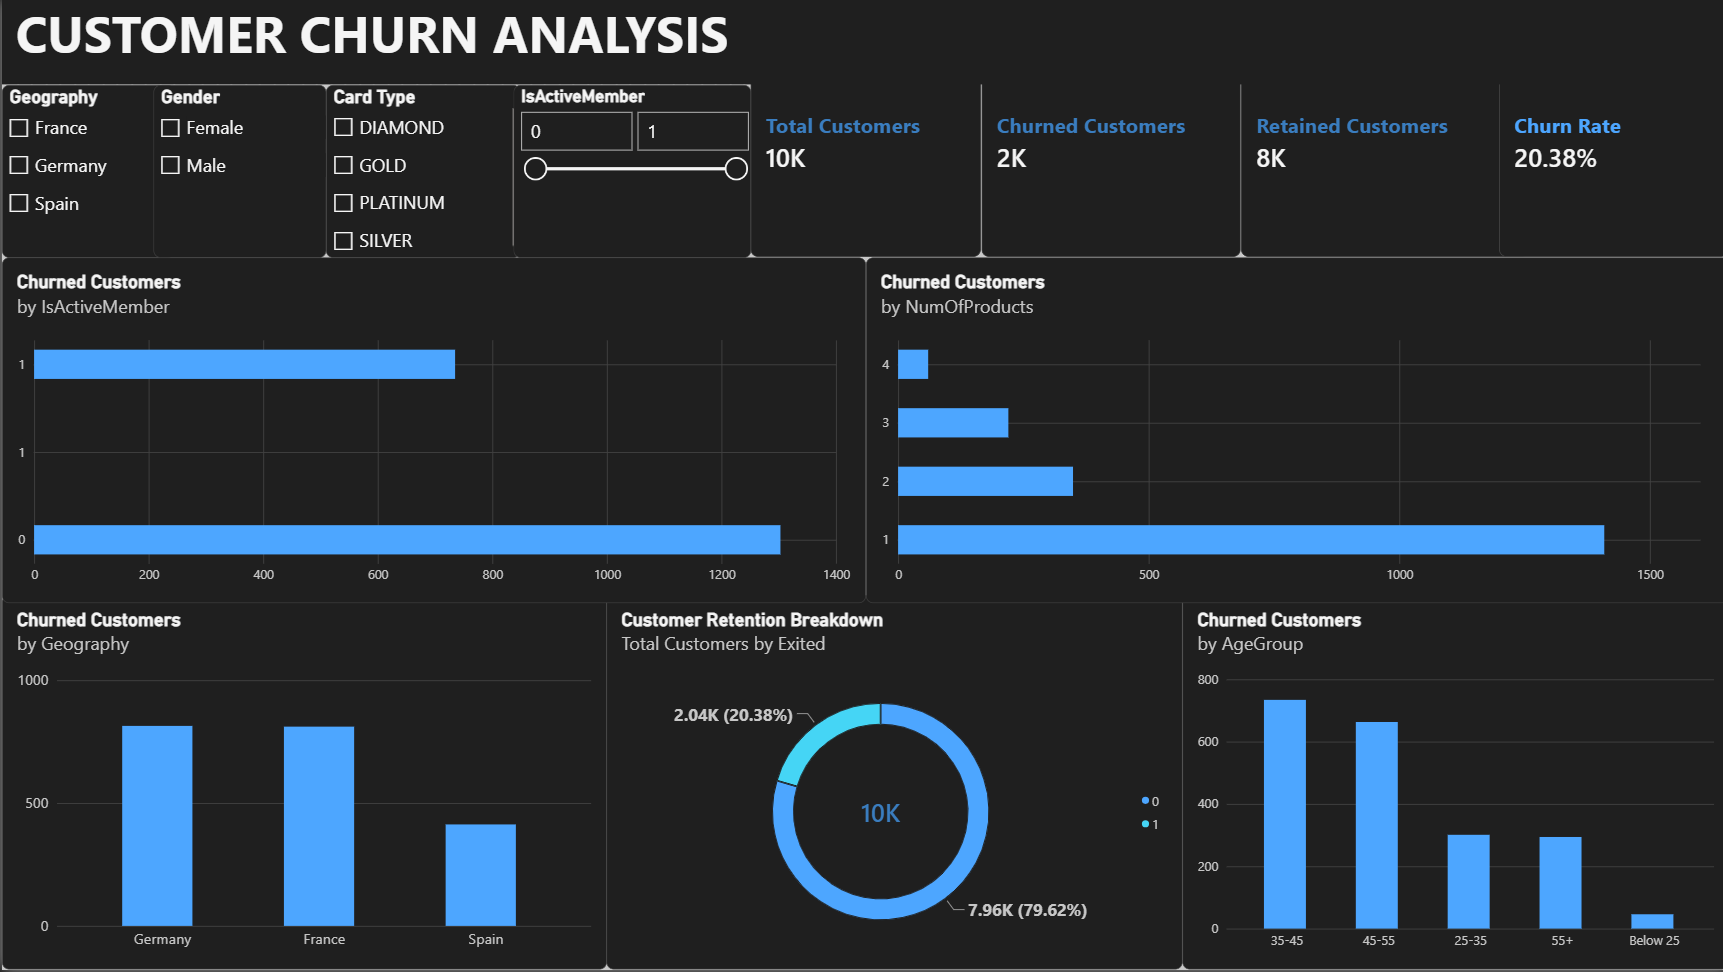

The page's visual inventory and layout, read from the dashboard file:
{"tool":"powerbi","page":{"name":"Page 1","canvas":[1920,1080],"ordinal":0},"visuals":[{"type":"cardVisual","fields":{"Data":["BankChurn.Total Customers"]},"box":[832,32,256,256],"z":0},{"type":"cardVisual","fields":{"Data":["BankChurn.Churned Customers"]},"box":[1088,32,288,256],"z":1000},{"type":"cardVisual","fields":{"Data":["BankChurn.Retained Customers"]},"box":[1376,32,320,256],"z":2000},{"type":"cardVisual","fields":{"Data":["BankChurn.Churn Rate"]},"box":[1664,32,256,256],"z":3000},{"type":"clusteredColumnChart","fields":{"Category":["BankChurn.Geography"],"Y":["BankChurn.Churned Customers"]},"box":[0,664,672,416],"z":4000},{"type":"donutChart","title":"Customer Retention Breakdown","fields":{"Category":["BankChurn.Exited"],"Y":["BankChurn.Total Customers"]},"box":[672,664,640,416],"z":5000},{"type":"clusteredColumnChart","fields":{"Category":["BankChurn.AgeGroup"],"Y":["BankChurn.Churned Customers"]},"box":[1312,664,608,416],"z":6000},{"type":"clusteredBarChart","fields":{"Category":["BankChurn.IsActiveMember"],"Y":["BankChurn.Churned Customers"]},"box":[0,288,960,384],"z":7000},{"type":"clusteredBarChart","fields":{"Category":["BankChurn.NumOfProducts"],"Y":["BankChurn.Churned Customers"]},"box":[960,288,960,384],"z":7001},{"type":"slicer","fields":{"Values":["BankChurn.Geography"]},"box":[0,96,192,192],"z":7002},{"type":"slicer","fields":{"Values":["BankChurn.Gender"]},"box":[168,96,192,192],"z":7003},{"type":"slicer","fields":{"Values":["BankChurn.Card Type"]},"box":[360,96,216,192],"z":7004},{"type":"slicer","fields":{"Values":["BankChurn.IsActiveMember"]},"box":[568,96,264,192],"z":7005},{"type":"textbox","box":[0,0,1920,96],"z":7007}]}

Visuals, with their boxes in screenshot pixels (x1, y1, x2, y2), scaled from the page's 1920x1080 canvas onto the 1723x972 screenshot:
cardVisual - BankChurn.Total Customers: region(747, 29, 976, 259)
cardVisual - BankChurn.Churned Customers: region(976, 29, 1235, 259)
cardVisual - BankChurn.Retained Customers: region(1235, 29, 1522, 259)
cardVisual - BankChurn.Churn Rate: region(1493, 29, 1722, 259)
clusteredColumnChart - BankChurn.Geography x BankChurn.Churned Customers: region(0, 598, 603, 971)
"Customer Retention Breakdown" donutChart: region(603, 598, 1177, 971)
clusteredColumnChart - BankChurn.AgeGroup x BankChurn.Churned Customers: region(1177, 598, 1722, 971)
clusteredBarChart - BankChurn.IsActiveMember x BankChurn.Churned Customers: region(0, 259, 862, 605)
clusteredBarChart - BankChurn.NumOfProducts x BankChurn.Churned Customers: region(862, 259, 1722, 605)
slicer - BankChurn.Geography: region(0, 86, 172, 259)
slicer - BankChurn.Gender: region(151, 86, 323, 259)
slicer - BankChurn.Card Type: region(323, 86, 517, 259)
slicer - BankChurn.IsActiveMember: region(510, 86, 747, 259)
textbox: region(0, 0, 1722, 86)
